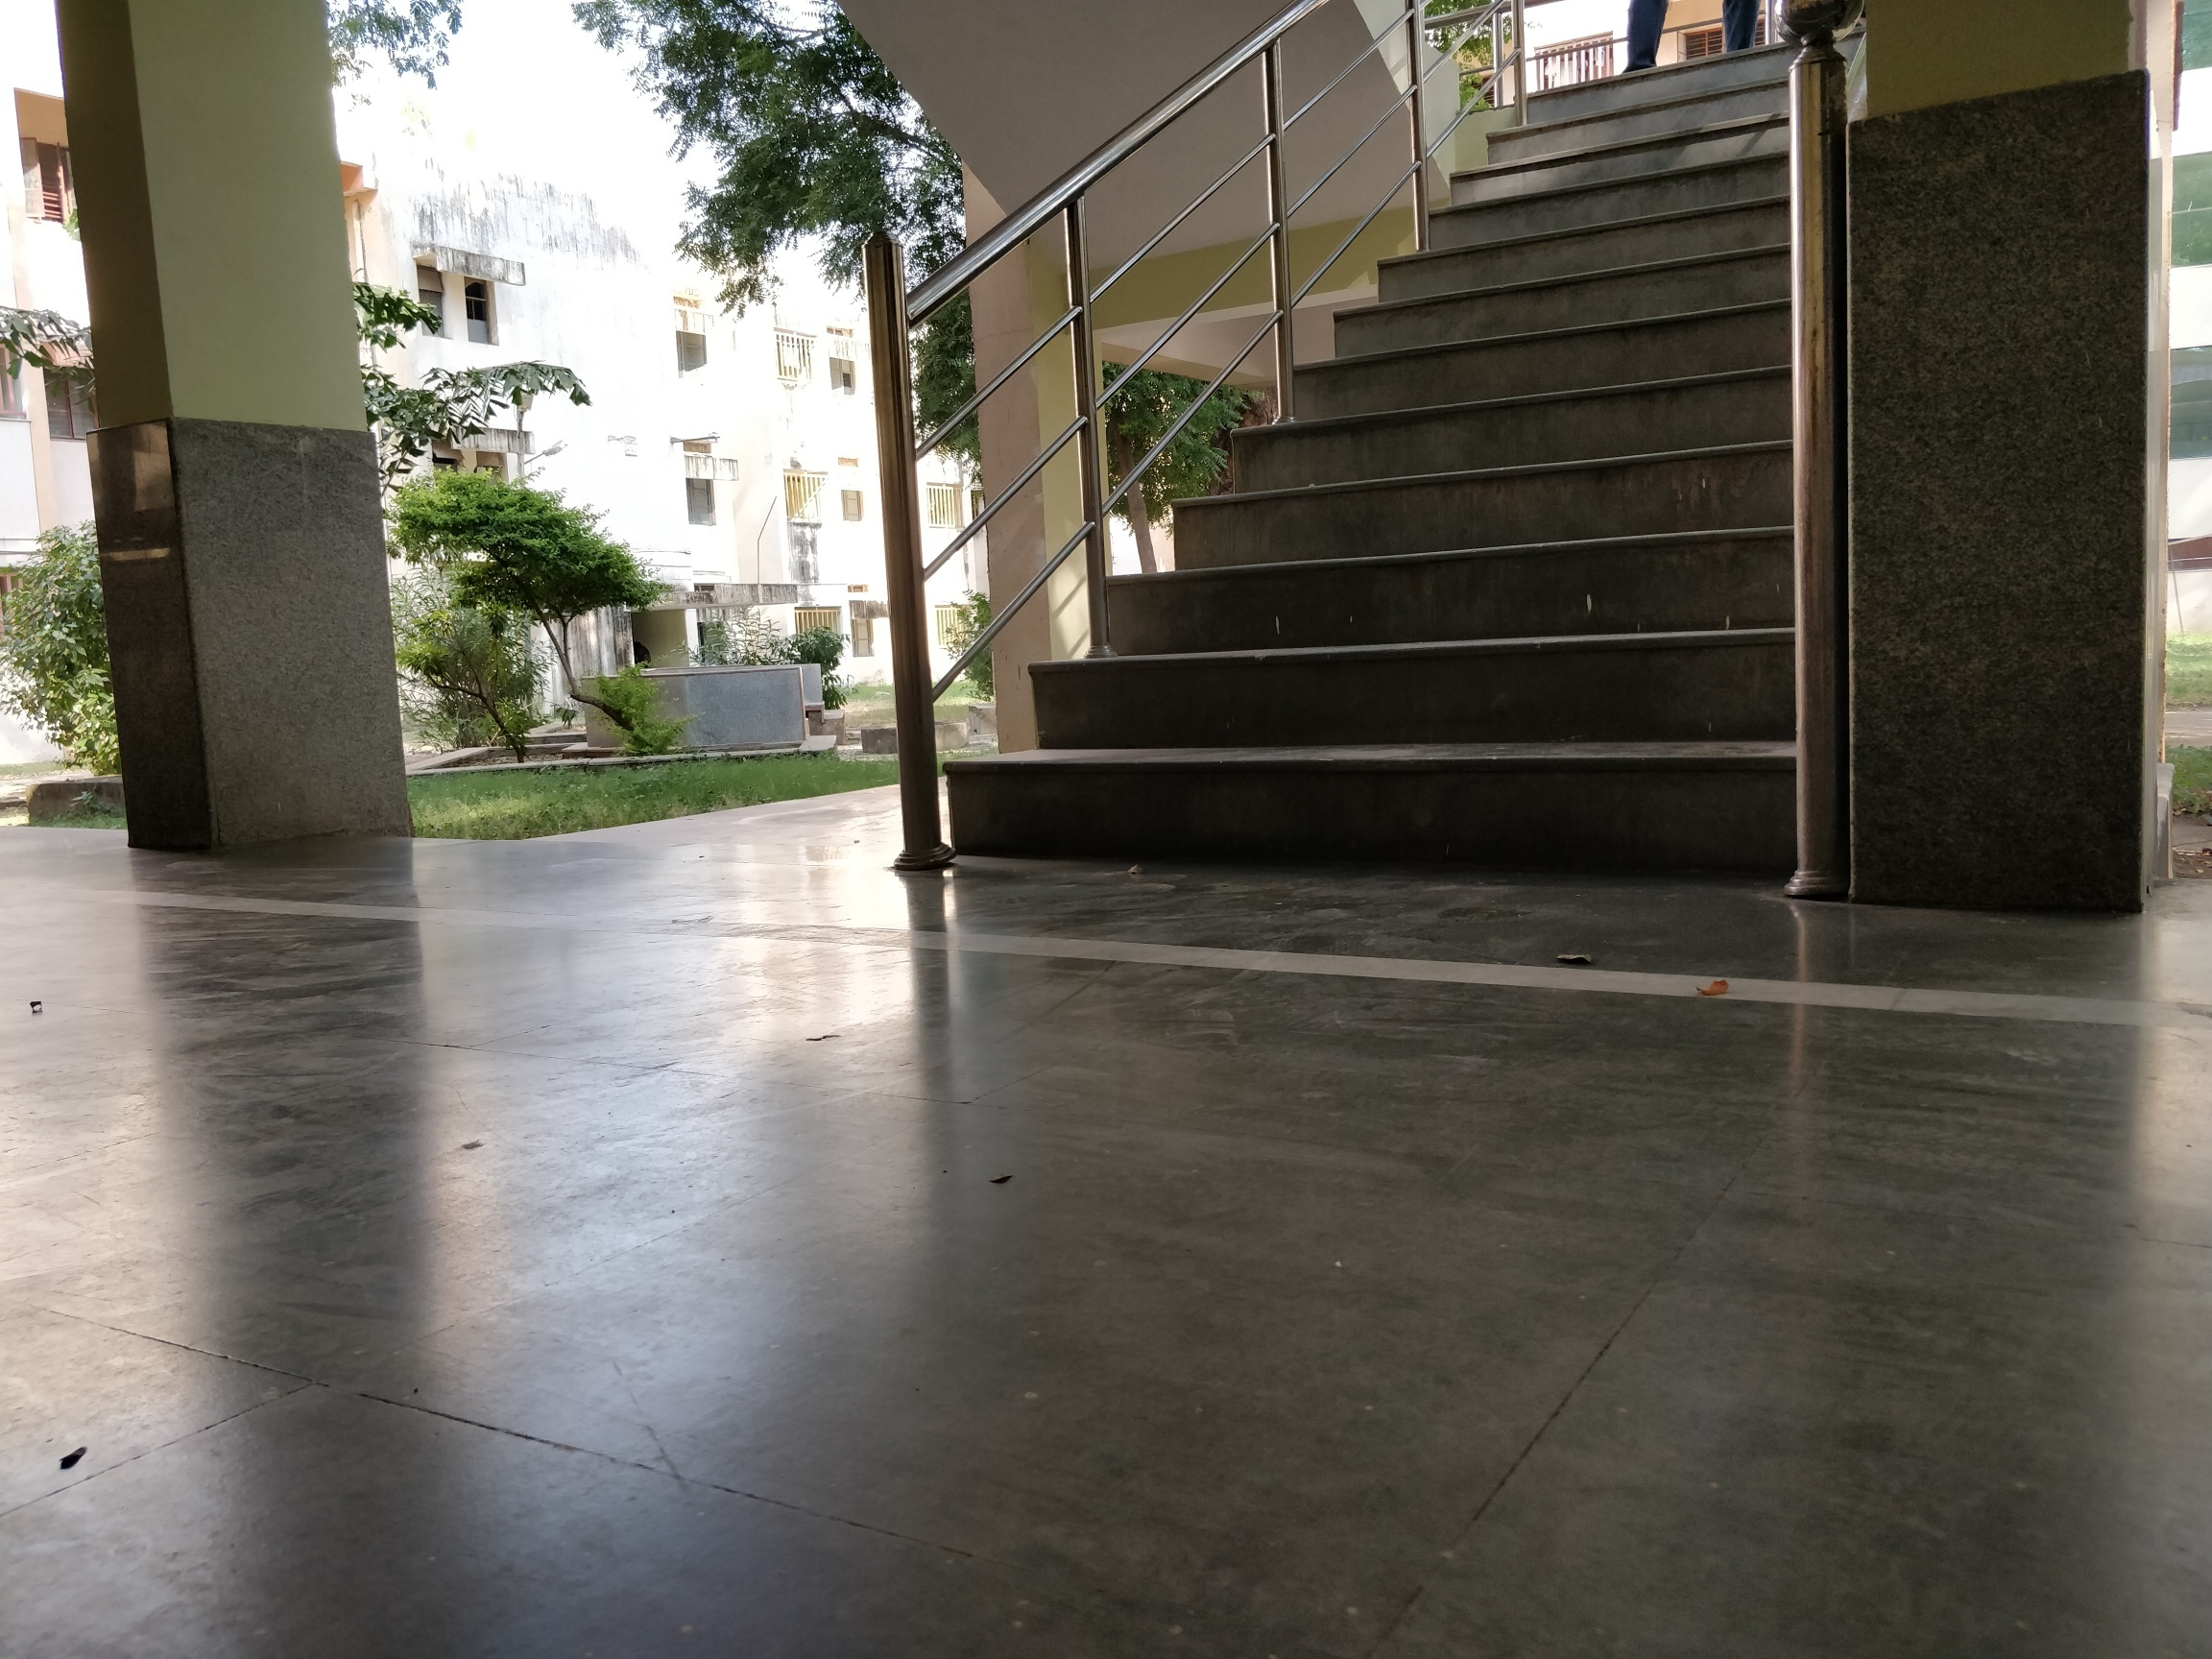stairs_up: (904, 17, 1838, 864)
